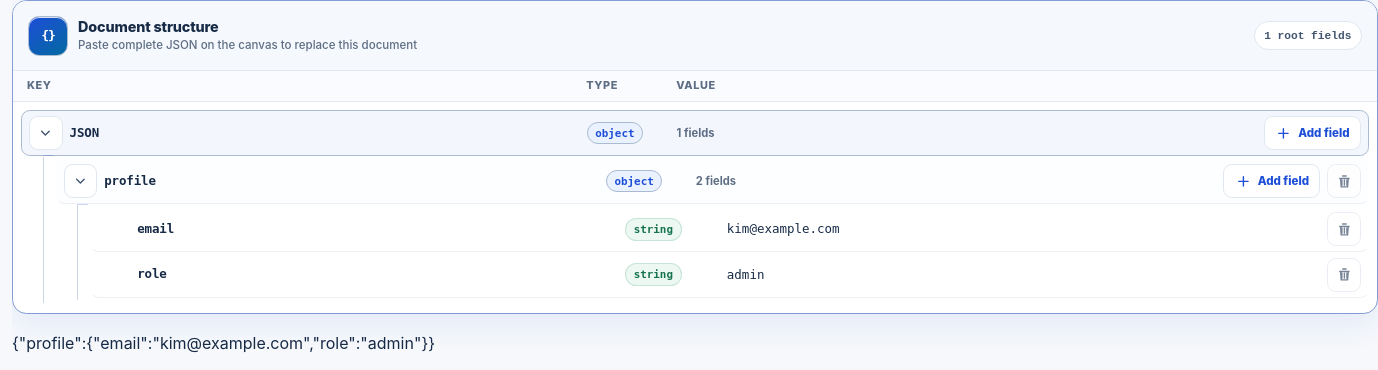
Test: JsonTreeEditor › collapses and restores a branch without changing the document
Click the button named "Collapse profile".
click(80, 181)  # box [64,164,97,198]
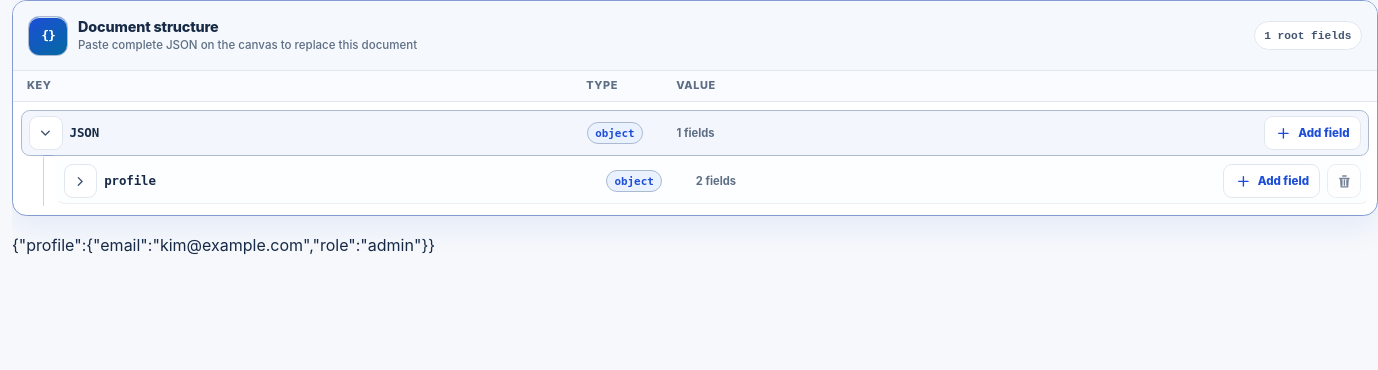
Expected: the text with test id "json-value" reads "{\"profile\":{\"email\":\"kim@example.com\",\"role\":\"admin\"}}", [12,235,435,255]
Expected: the text "Value for email" is gone
Expected: the button named "Expand profile" is collapsed
Click the button named "Expand profile".
click(80, 181)  # box [64,164,97,198]
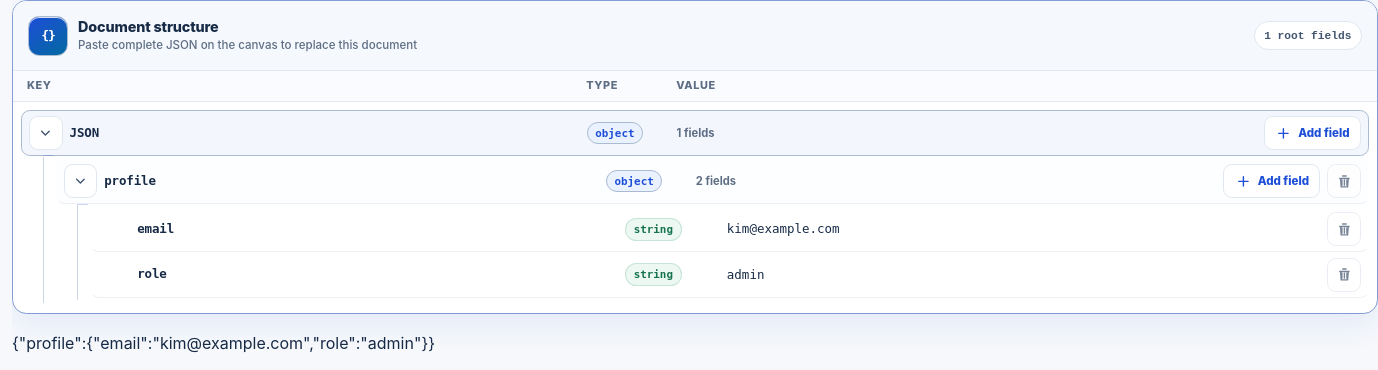
Expected: the field named "Value for email" is shown, [715,212,1320,246]
